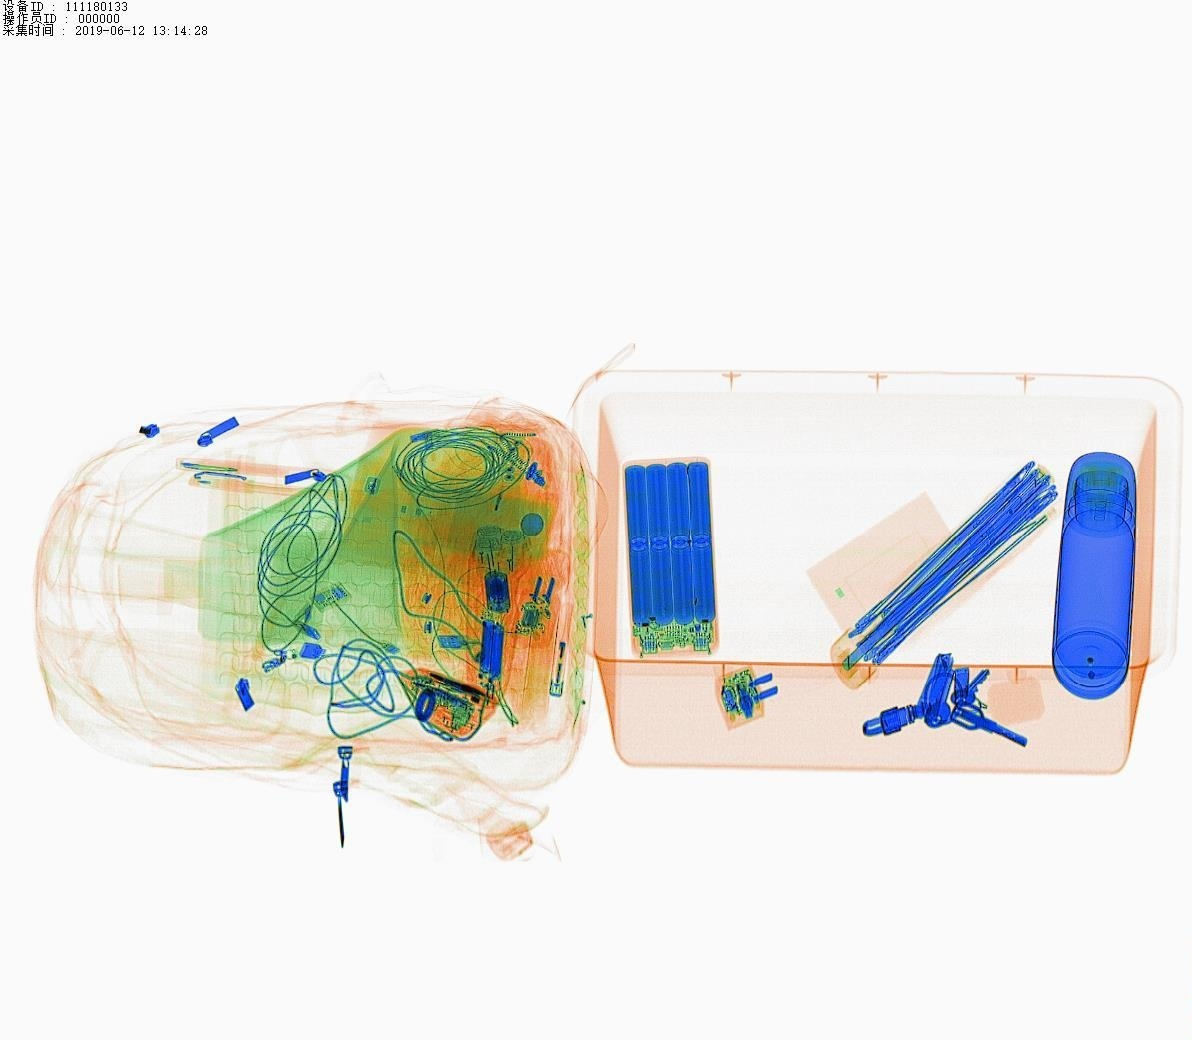NonmetallicFire: (542, 591, 574, 709)
